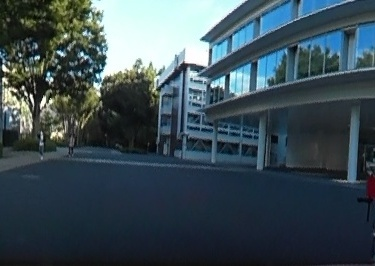person: (36, 125, 46, 160), (67, 131, 74, 152)
